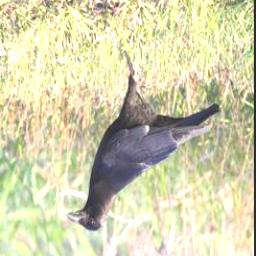Crow: (65, 44, 223, 234)
